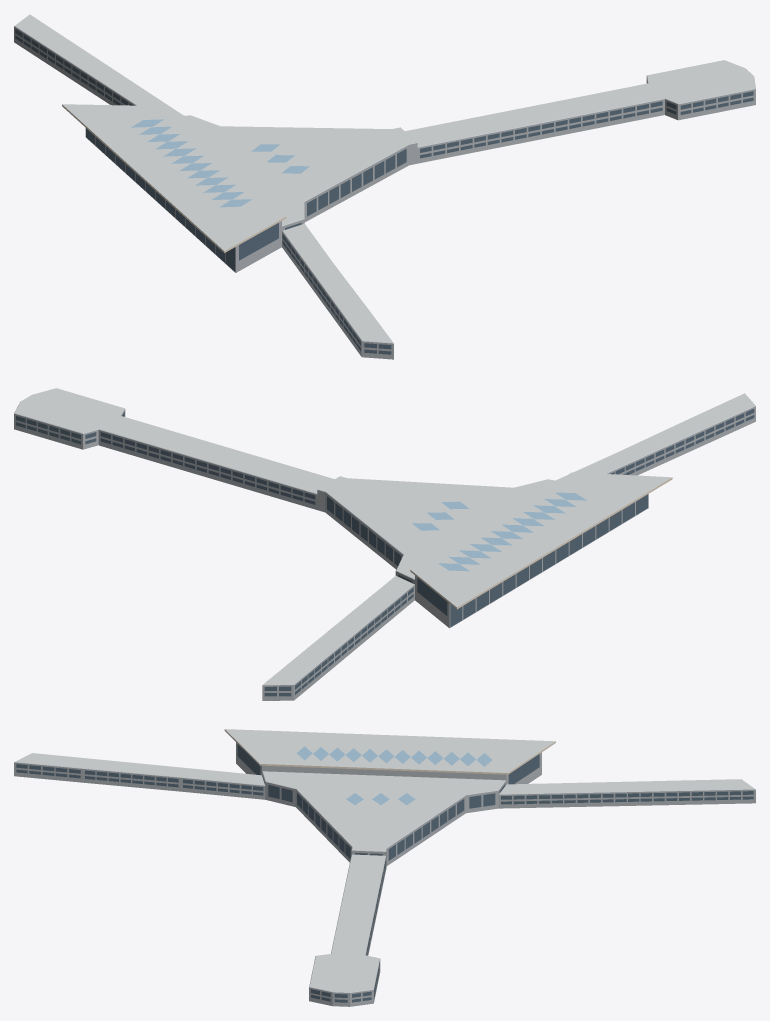
The model's file is nyc-ewr-terminal-a.glb.
3 renders of one model, top to bottom at view 1: azimuth 30°, elevation 25°; view 2: azimuth 150°, elevation 25°; view 3: azimuth 270°, elevation 25°, orthographic. The views are drawn at different scales.
Visible parts, largest first — view 1: Newark Liberty Terminal A; view 2: Newark Liberty Terminal A; view 3: Newark Liberty Terminal A.
Part boxes in pixels (box(x1,y1,x2,y2)): Newark Liberty Terminal A: box(14, 14, 755, 359); Newark Liberty Terminal A: box(14, 388, 755, 700); Newark Liberty Terminal A: box(14, 729, 755, 1006).
Bounding box in the file's own units: 529 × 26.5 × 660.
